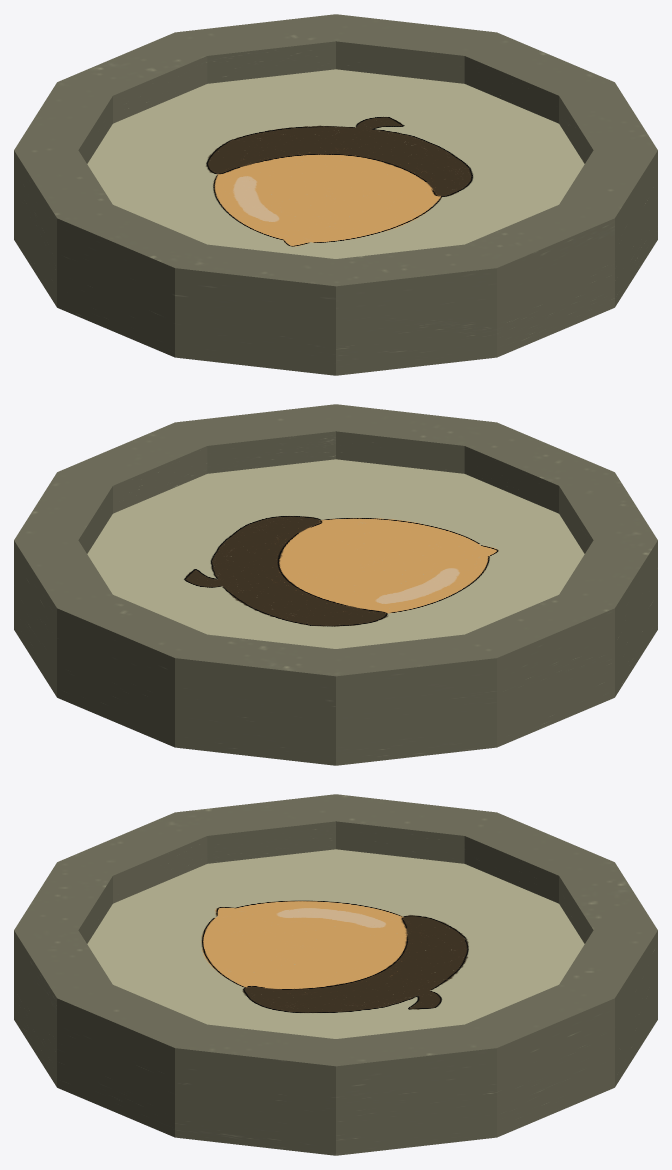
File: NutSign.fbx
3 views of the same model, one above another, from view 1: azimuth 30°, elevation 25°; view 2: azimuth 150°, elevation 25°; view 3: azimuth 270°, elevation 25° (orthographic).
Parts seen in each view (by area): view 1: pCylinder5; view 2: pCylinder5; view 3: pCylinder5.
Boxes of the visible parts, box(x1,y1,x2,y2) form: pCylinder5: box(14, 14, 657, 375); pCylinder5: box(14, 404, 657, 765); pCylinder5: box(14, 794, 657, 1155).
Bounding box in the file's own units: 2.51 × 0.3845 × 2.51.
